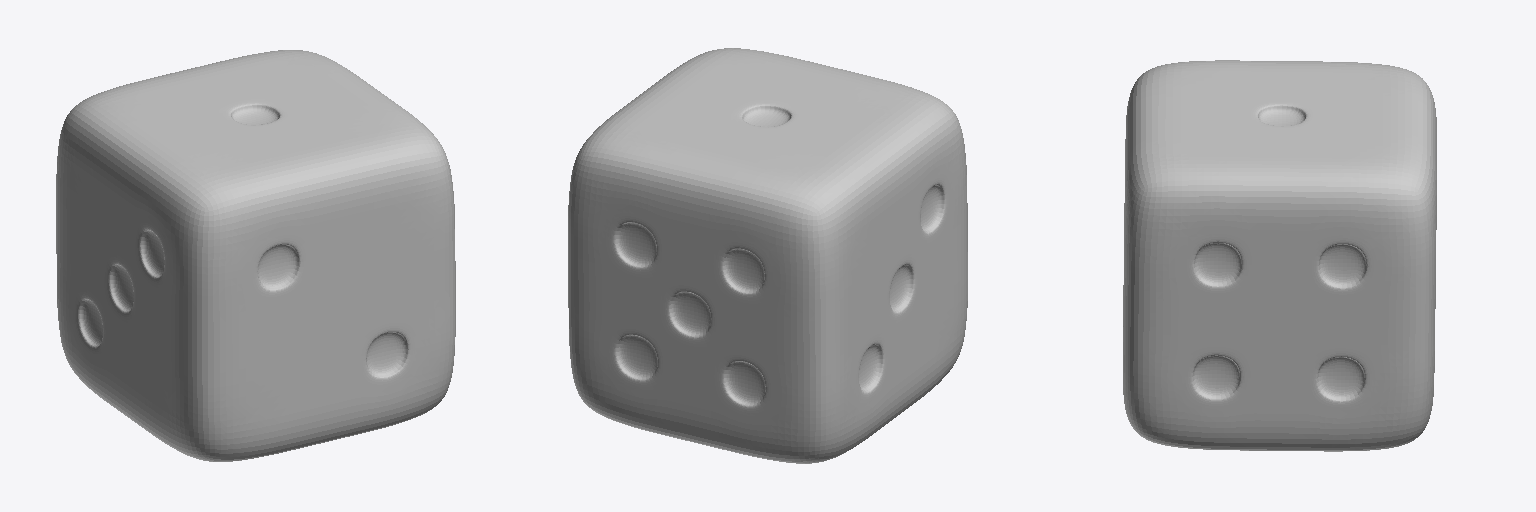
The model's file is dice.obj.
3 views of the same model, side by side, from view 1: azimuth 30°, elevation 25°; view 2: azimuth 150°, elevation 25°; view 3: azimuth 270°, elevation 25° (orthographic).
Parts seen in each view (by area): view 1: Dice; view 2: Dice; view 3: Dice.
Part boxes in pixels (x1,y1,x2,y2): Dice: (56,50,455,461); Dice: (568,48,967,463); Dice: (1123,60,1436,451).
Size of the model in its own units: 2 by 2.02 by 2.02.